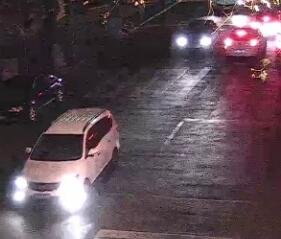car: (15, 107, 120, 201), (0, 71, 65, 122), (169, 17, 220, 55), (222, 25, 268, 60)
